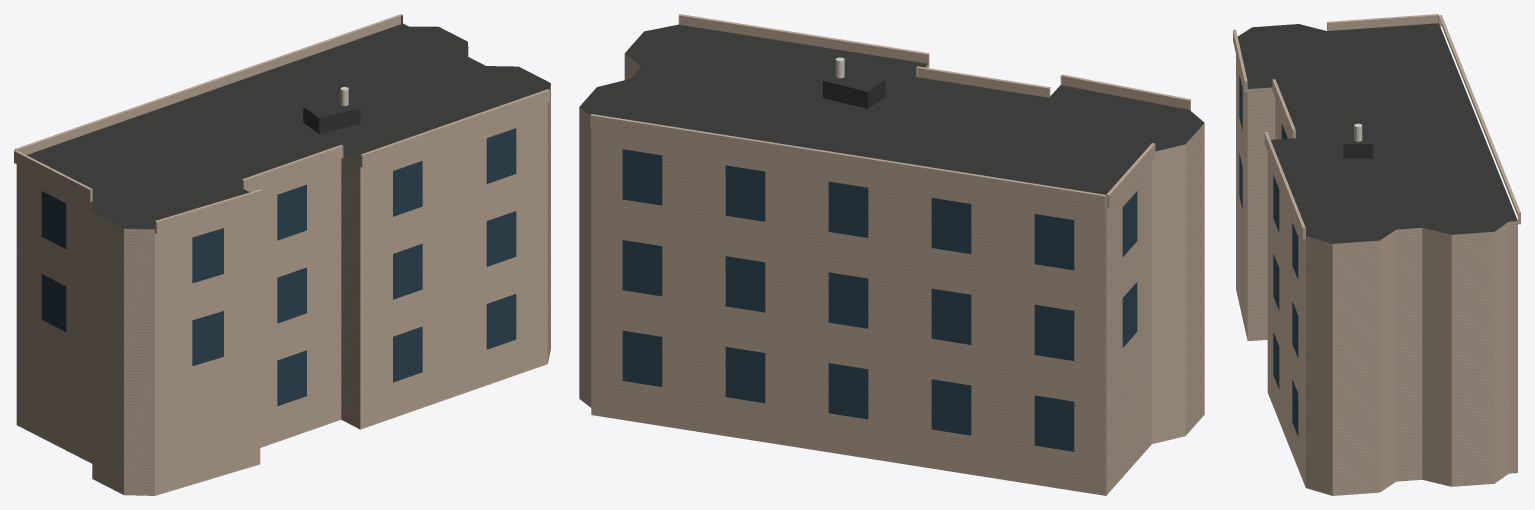
3 renders of one model, left to right at view 1: azimuth 30°, elevation 25°; view 2: azimuth 150°, elevation 25°; view 3: azimuth 270°, elevation 25°, orthographic. The views are drawn at different scales.
Visible parts, largest first — view 1: Footprint 0 / surface 2, Footprint 0 / surface 1, Inset glazing, Facade bay volumes, Inferred rooftop service enclosure / surface 5, Inferred rooftop service enclosure / surface 3; view 2: Footprint 0 / surface 2, Footprint 0 / surface 1, Inset glazing, Facade bay volumes, Inferred rooftop service enclosure / surface 6, Inferred rooftop service enclosure / surface 3; view 3: Footprint 0 / surface 2, Footprint 0 / surface 1, Facade bay volumes, Inset glazing, Inferred rooftop service enclosure / surface 3, Inferred rooftop service enclosure / surface 1.
Part boxes in pixels (<box>): Footprint 0 / surface 2: <box>16,83,550,495</box>; Footprint 0 / surface 1: <box>26,23,550,229</box>; Inset glazing: <box>41,128,516,406</box>; Facade bay volumes: <box>14,14,549,233</box>; Inferred rooftop service enclosure / surface 5: <box>319,108,360,133</box>; Inferred rooftop service enclosure / surface 3: <box>303,97,360,118</box>; Footprint 0 / surface 2: <box>579,53,1204,495</box>; Footprint 0 / surface 1: <box>579,24,1204,194</box>; Inset glazing: <box>622,149,1137,451</box>; Facade bay volumes: <box>590,14,1190,209</box>; Inferred rooftop service enclosure / surface 6: <box>822,81,867,108</box>; Inferred rooftop service enclosure / surface 3: <box>823,69,885,91</box>; Footprint 0 / surface 2: <box>1236,55,1517,495</box>; Footprint 0 / surface 1: <box>1238,23,1517,243</box>; Facade bay volumes: <box>1233,14,1520,239</box>; Inset glazing: <box>1239,75,1298,436</box>; Inferred rooftop service enclosure / surface 3: <box>1343,124,1373,143</box>; Inferred rooftop service enclosure / surface 1: <box>1343,144,1373,158</box>.
Bounding box in the file's own units: 20.83 × 12.33 × 11.42.
